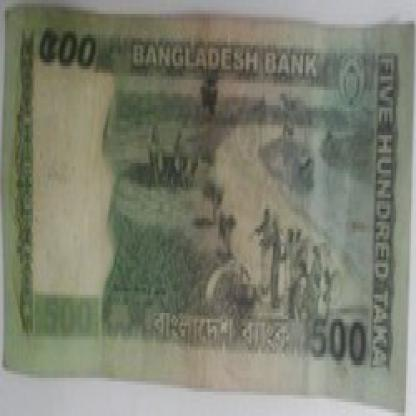500 taka: (32, 21, 122, 90)
currency: (1, 7, 415, 415)
